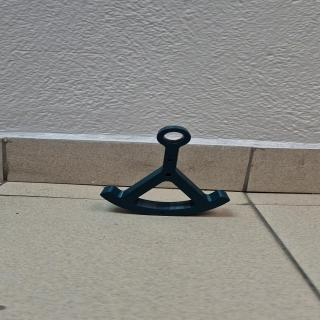haptic: (99, 125, 231, 217)
